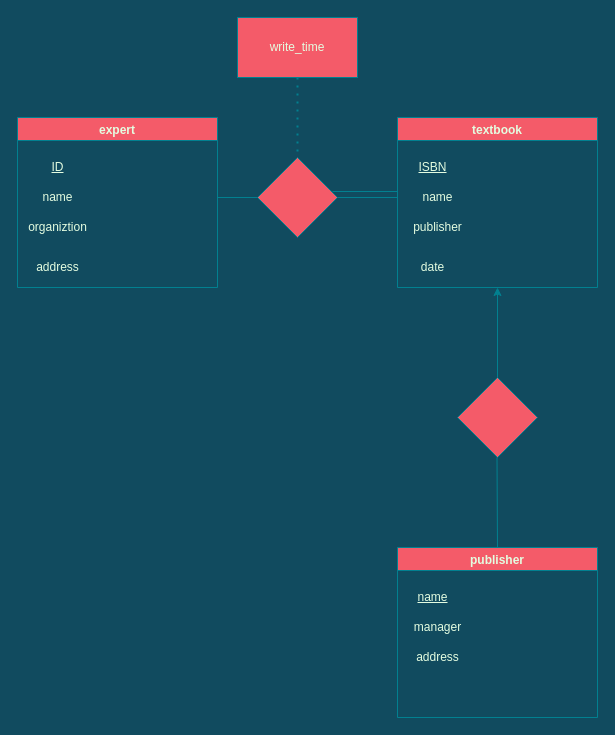
This 615x735 diagram has some shape labels left out. The centre of each missing label's shape, as x and y in pixels:
publish: the point at 497,417
write: the point at 297,197
